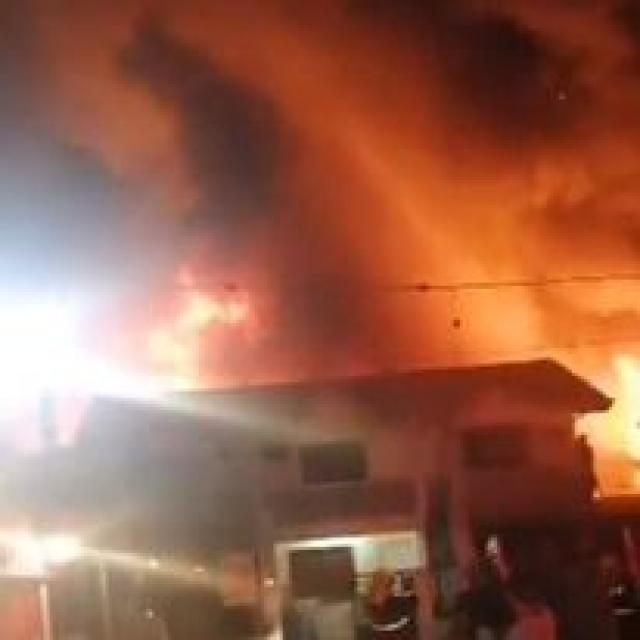Fire: (152, 273, 250, 386), (581, 347, 640, 477)
Smoke: (220, 0, 640, 335)
